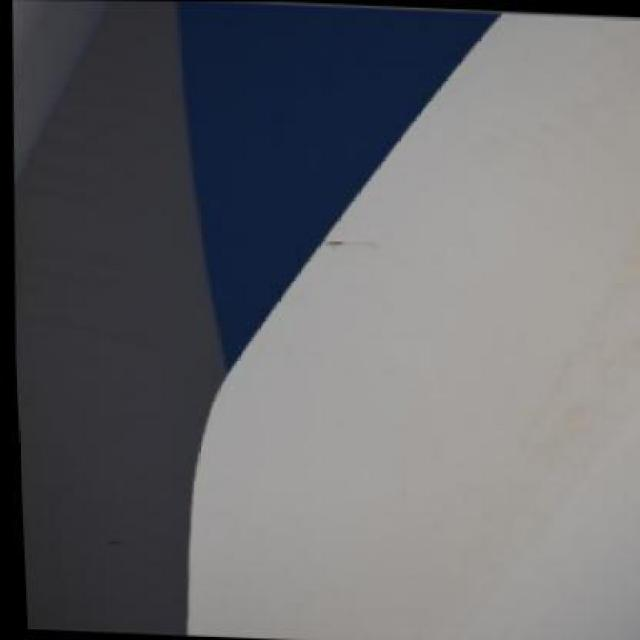Crack: (317, 232, 374, 254)
